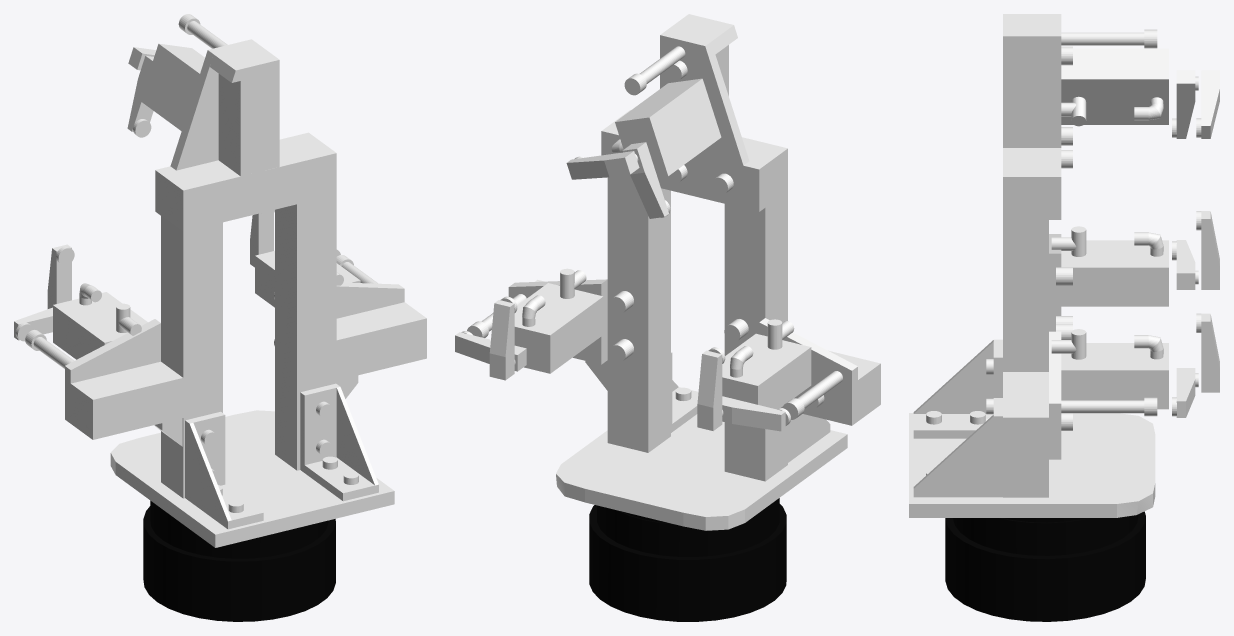
3 views of the same model, side by side, from view 1: azimuth 30°, elevation 25°; view 2: azimuth 150°, elevation 25°; view 3: azimuth 270°, elevation 25° (orthographic). The views are drawn at different scales.
Parts seen in each view (by area): view 1: v_wb_link_2.001; view 2: v_wb_link_2.001; view 3: v_wb_link_2.001.
Boxes of the visible parts, x1=… form: v_wb_link_2.001: x1=14, y1=14, x2=426, y2=621; v_wb_link_2.001: x1=455, y1=14, x2=880, y2=621; v_wb_link_2.001: x1=909, y1=14, x2=1219, y2=621.
Bounding box in the file's own units: 0.261 × 0.202 × 0.397.
Materials: 1 (1 with a texture image).
